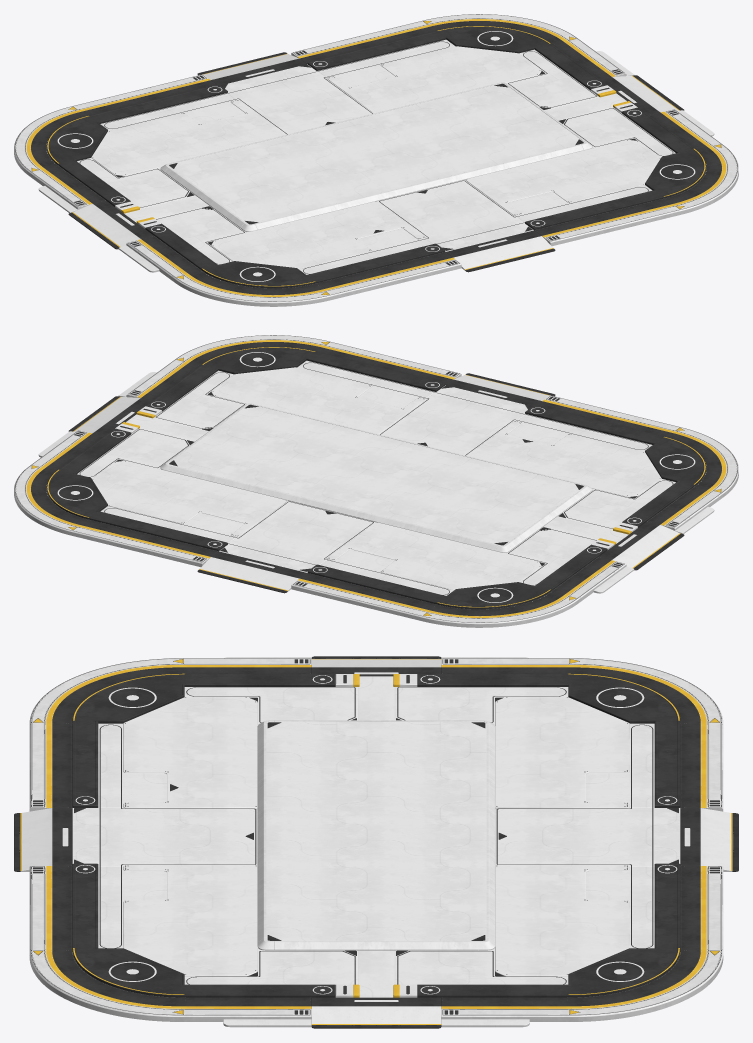
Rendered from GymPlate.fbx.
The picture shows the model from 3 angles, top to bottom: view 1: azimuth 30°, elevation 25°; view 2: azimuth 150°, elevation 25°; view 3: azimuth 270°, elevation 25°; orthographic projection. The views are drawn at different scales.
Visible parts, largest first — view 1: GymPlate001; view 2: GymPlate001; view 3: GymPlate001.
Boxes of the visible parts, left/top/right/bottom form: GymPlate001: left=14, top=14, right=738, bottom=306; GymPlate001: left=14, top=335, right=738, bottom=627; GymPlate001: left=14, top=656, right=738, bottom=1028.
Size of the model in its own units: 3041 by 44.68 by 2510.
